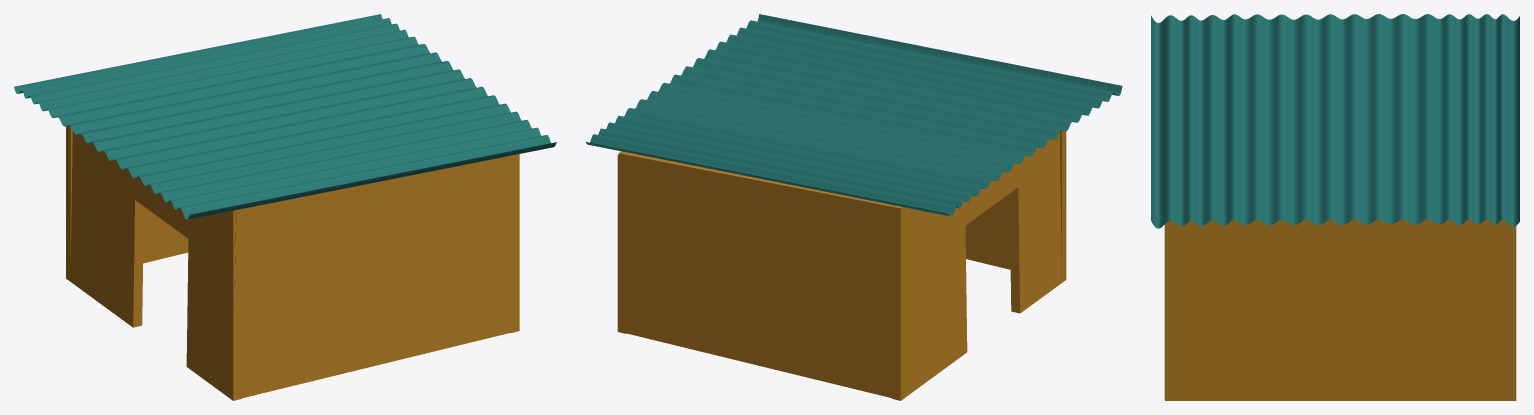
File: Slum house101.fbx
3 views of the same model, side by side, from view 1: azimuth 30°, elevation 25°; view 2: azimuth 150°, elevation 25°; view 3: azimuth 270°, elevation 25° (orthographic). The views are drawn at different scales.
Parts seen in each view (by area): view 1: Cube.001, NurbsPath.005, NurbsPath.007; view 2: Cube.001, NurbsPath.005, NurbsPath.007; view 3: NurbsPath.005, Cube.001, NurbsPath.007.
Boxes of the visible parts, <box> form: Cube.001: <box>66,125,519,400</box>; NurbsPath.005: <box>14,14,556,219</box>; NurbsPath.007: <box>15,15,554,219</box>; Cube.001: <box>617,130,1066,400</box>; NurbsPath.005: <box>585,14,1122,216</box>; NurbsPath.007: <box>589,14,1122,215</box>; NurbsPath.005: <box>1151,14,1519,228</box>; Cube.001: <box>1164,219,1516,400</box>; NurbsPath.007: <box>1151,14,1519,228</box>.
Size of the model in its own units: 3649 by 1942 by 3021.
